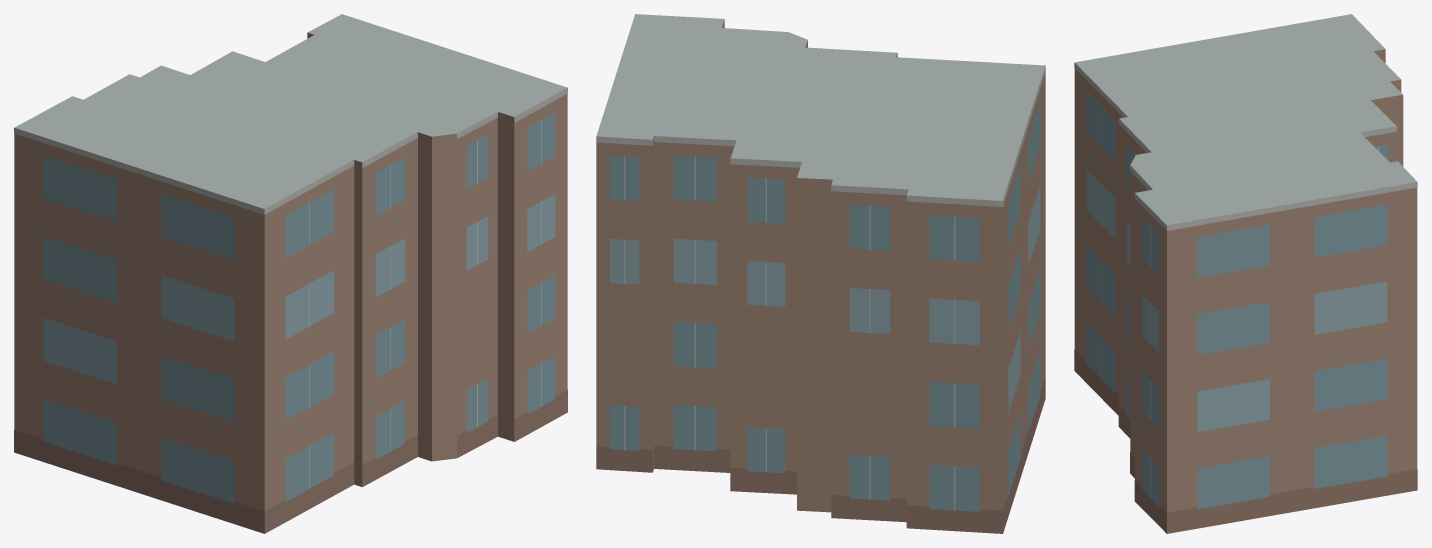
Rendered from survey-upis-32660928.glb.
3 renders of one model, left to right at view 1: azimuth 30°, elevation 25°; view 2: azimuth 150°, elevation 25°; view 3: azimuth 270°, elevation 25°, orthographic. The views are drawn at different scales.
Parts seen in each view (by area): view 1: survey-upis-32660928.tmp; view 2: survey-upis-32660928.tmp; view 3: survey-upis-32660928.tmp.
Part boxes in pixels (x1,y1,x2,y2): survey-upis-32660928.tmp: (14, 14, 567, 533); survey-upis-32660928.tmp: (596, 14, 1045, 533); survey-upis-32660928.tmp: (1074, 14, 1417, 533).
Bounding box in the file's own units: 20.08 × 13.65 × 13.76.
